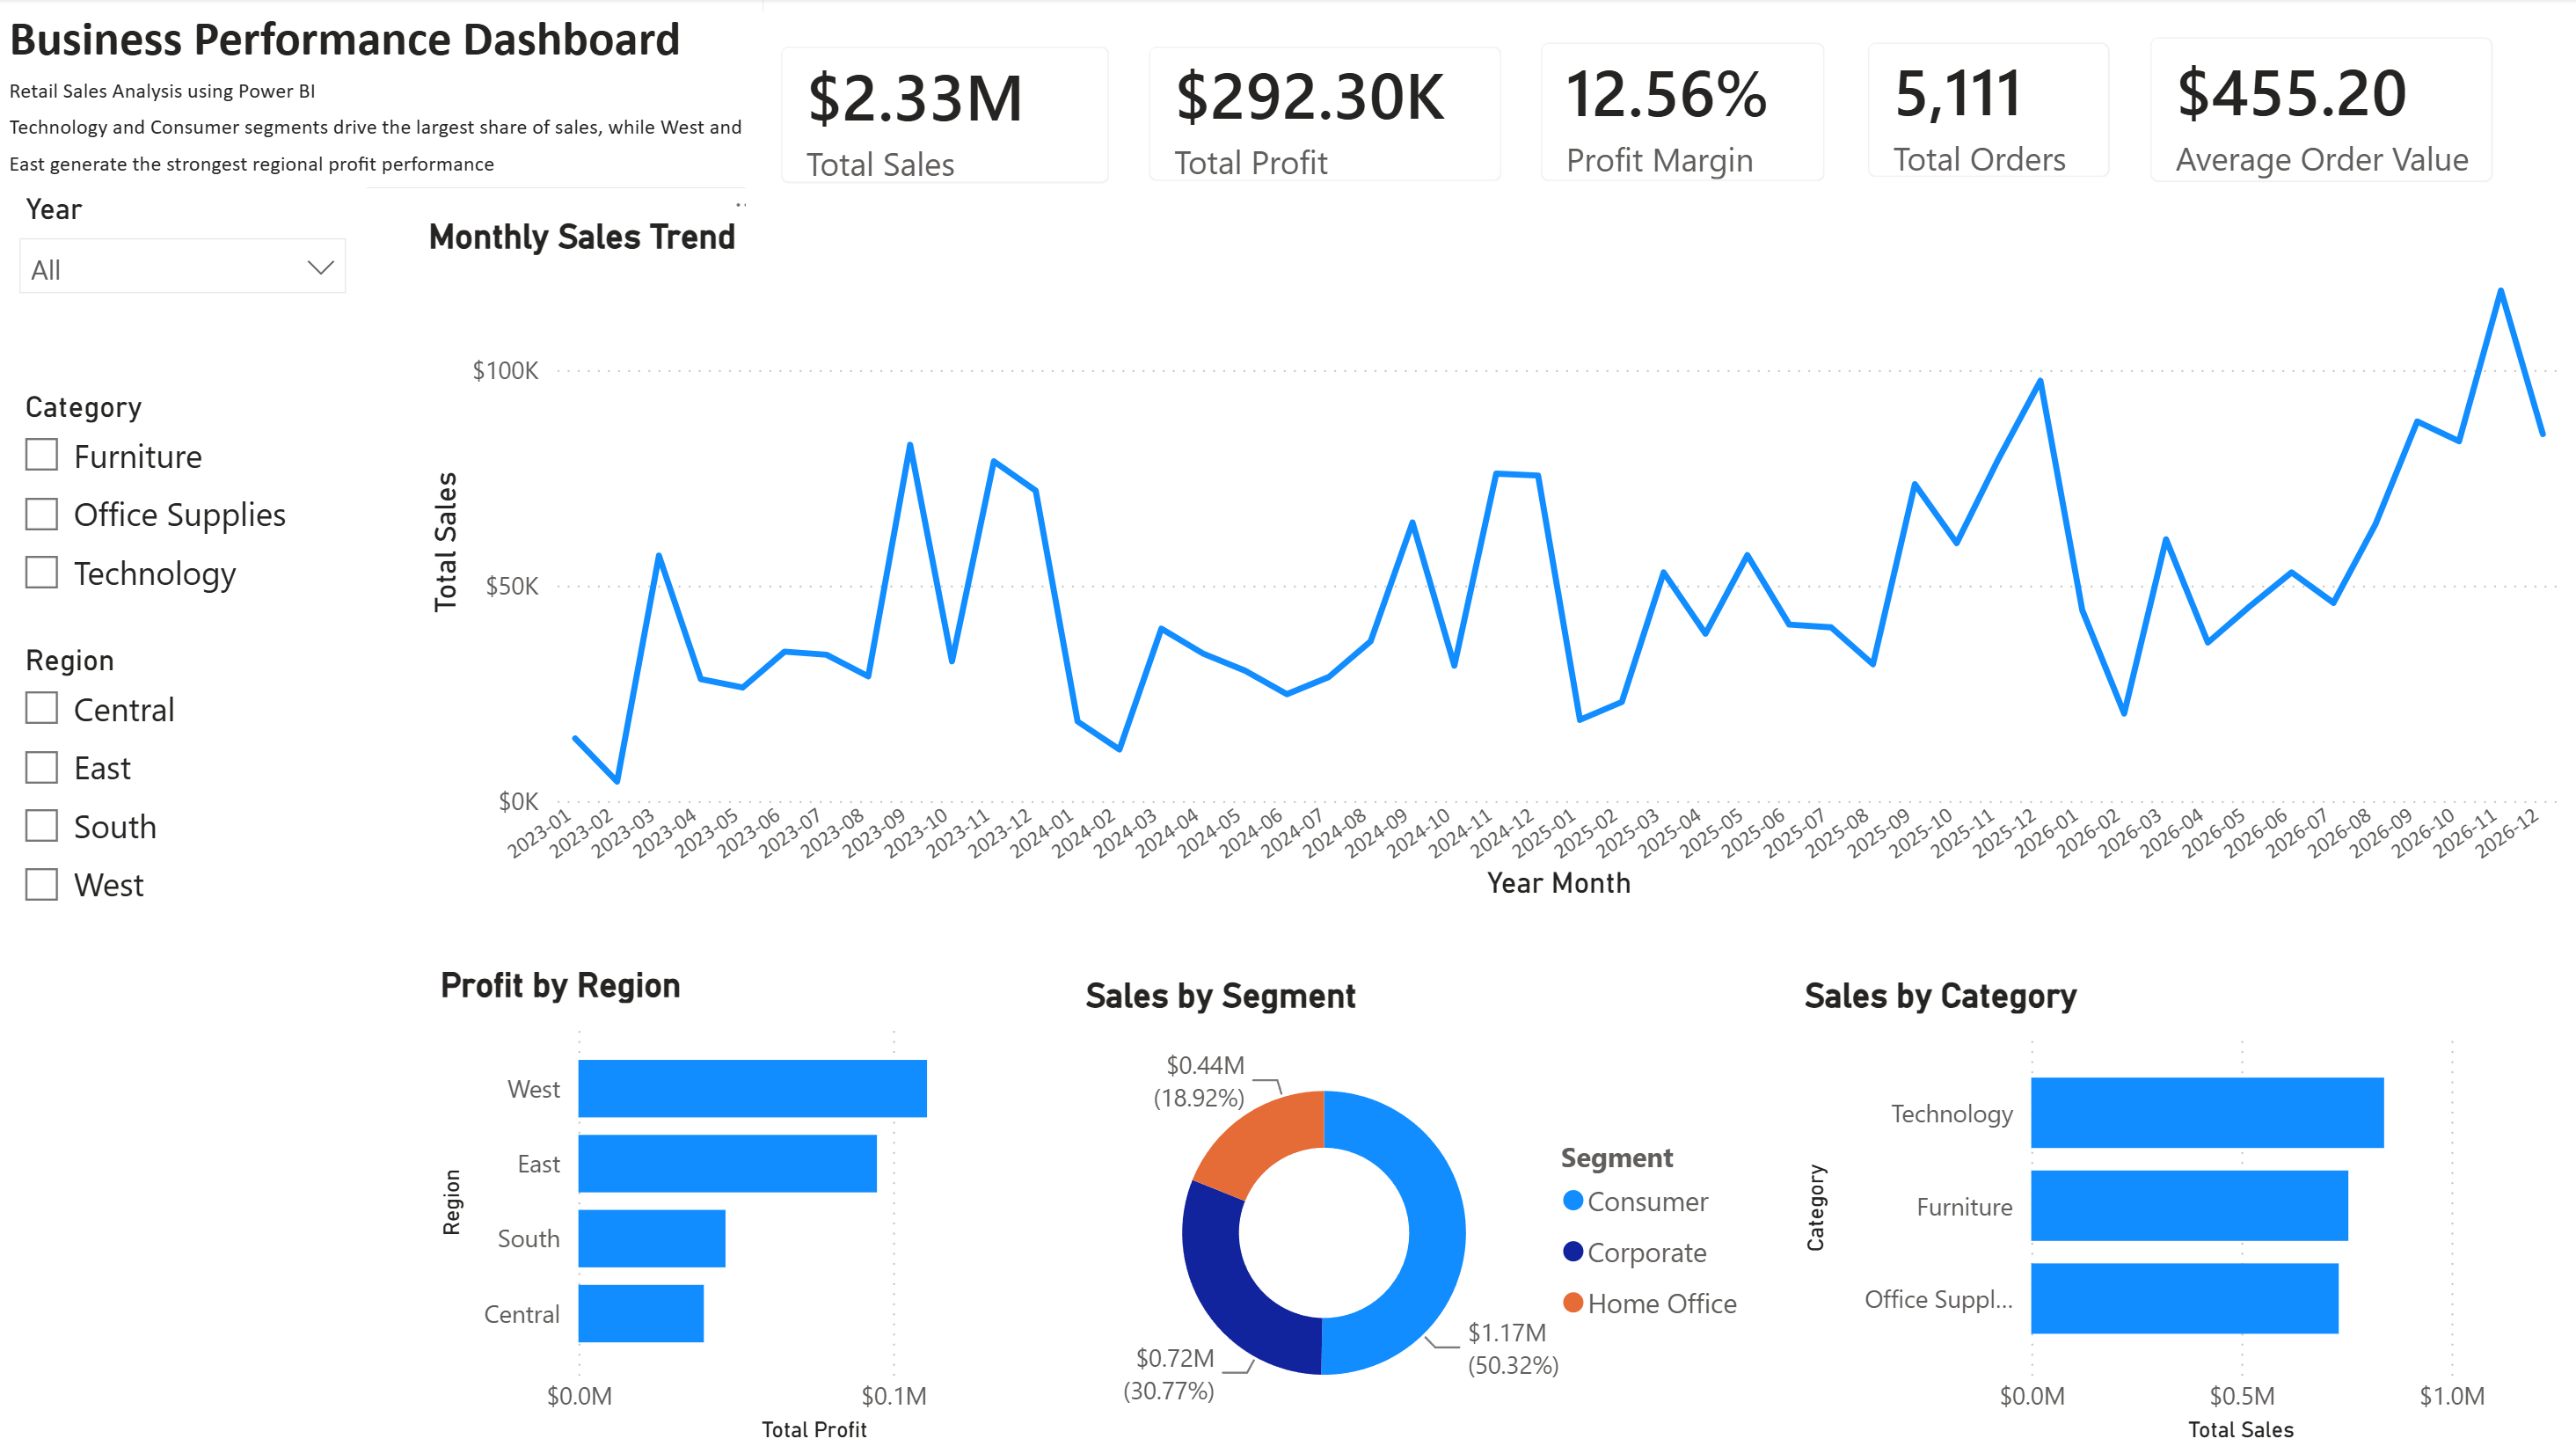

Layout of this report page (visuals, bound fields, positions):
{"tool":"powerbi","page":{"name":"Executive Dashboard","canvas":[1280,720],"ordinal":0},"visuals":[{"type":"textbox","box":[0,0,378.6,94.2],"z":1},{"type":"cardVisual","fields":{"Data":["Orders.Total Sales"]},"box":[370.1,6.5,197.5,102],"z":2},{"type":"cardVisual","fields":{"Data":["Orders.Total Profit"]},"box":[552.7,6.9,209.8,101.5],"z":3},{"type":"cardVisual","fields":{"Data":["Orders.Profit Margin"]},"box":[746.8,4.6,175.3,101.4],"z":4},{"type":"cardVisual","fields":{"Data":["Orders.Total Orders"]},"box":[909,4.6,154.3,101.4],"z":5},{"type":"cardVisual","fields":{"Data":["Orders.Average Order Value"]},"box":[1048.9,2,204.7,106.6],"z":6},{"type":"slicer","fields":{"Values":["Date Table.Year"]},"box":[0,90.9,181.8,98.1],"z":7},{"type":"slicer","fields":{"Values":["Orders.Region"]},"box":[0,314.6,182.5,158.3],"z":8},{"type":"slicer","fields":{"Values":["Orders.Category"]},"box":[0,189,181.8,118.4],"z":9},{"type":"lineChart","title":"Monthly Sales Trend","fields":{"Category":["Date Table.Year Month"],"Y":["Orders.Total Sales"]},"box":[213.8,108.6,1065.9,342.7],"z":10},{"type":"clusteredBarChart","title":"Profit by Region","fields":{"Y":["Orders.Total Profit"],"Category":["Orders.Region"]},"box":[213.8,478.7,328.9,241.3],"z":11},{"type":"donutChart","title":"Sales by Segment","fields":{"Category":["Orders.Segment"],"Y":["Orders.Total Sales"]},"box":[533.6,483.9,342.7,236.1],"z":12},{"type":"clusteredBarChart","title":"Sales by Category","fields":{"Category":["Orders.Category"],"Y":["Orders.Total Sales"]},"box":[890,483.9,347.2,236.1],"z":13}]}

Visuals, with their boxes in screenshot pixels (x1, y1, x2, y2), scaled from the page's 1280x720 canvas onto the 2576x1446 screenshot:
textbox: bbox(0, 0, 762, 189)
cardVisual - Orders.Total Sales: bbox(745, 13, 1142, 218)
cardVisual - Orders.Total Profit: bbox(1113, 14, 1535, 218)
cardVisual - Orders.Profit Margin: bbox(1503, 10, 1856, 213)
cardVisual - Orders.Total Orders: bbox(1829, 10, 2140, 213)
cardVisual - Orders.Average Order Value: bbox(2111, 4, 2523, 218)
slicer - Date Table.Year: bbox(0, 183, 366, 380)
slicer - Orders.Region: bbox(0, 632, 368, 950)
slicer - Orders.Category: bbox(0, 380, 366, 617)
"Monthly Sales Trend" lineChart: bbox(430, 218, 2575, 906)
"Profit by Region" clusteredBarChart: bbox(430, 961, 1092, 1445)
"Sales by Segment" donutChart: bbox(1074, 972, 1763, 1445)
"Sales by Category" clusteredBarChart: bbox(1792, 972, 2490, 1445)
